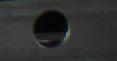holes: (30, 8, 73, 48)
